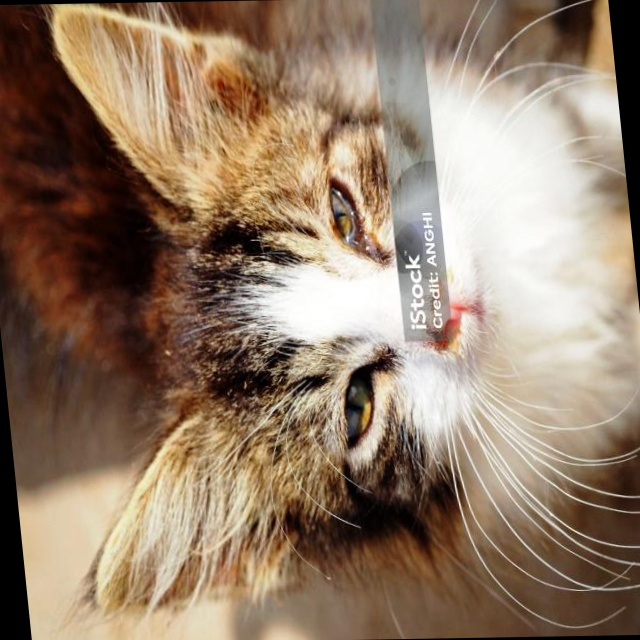eye_infection: (328, 182, 373, 254)
